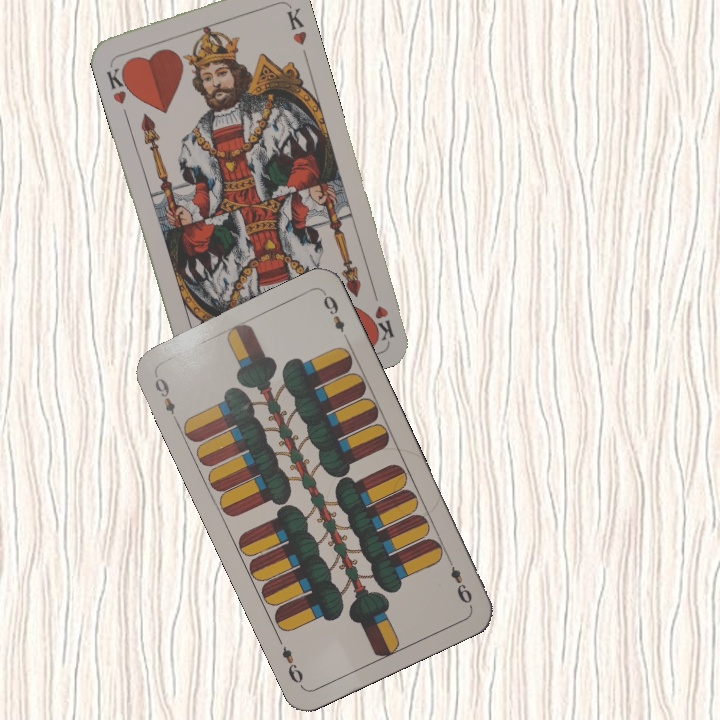E9: (443, 554, 475, 609), (150, 373, 181, 425)
HK: (367, 283, 397, 343), (102, 58, 135, 106)
